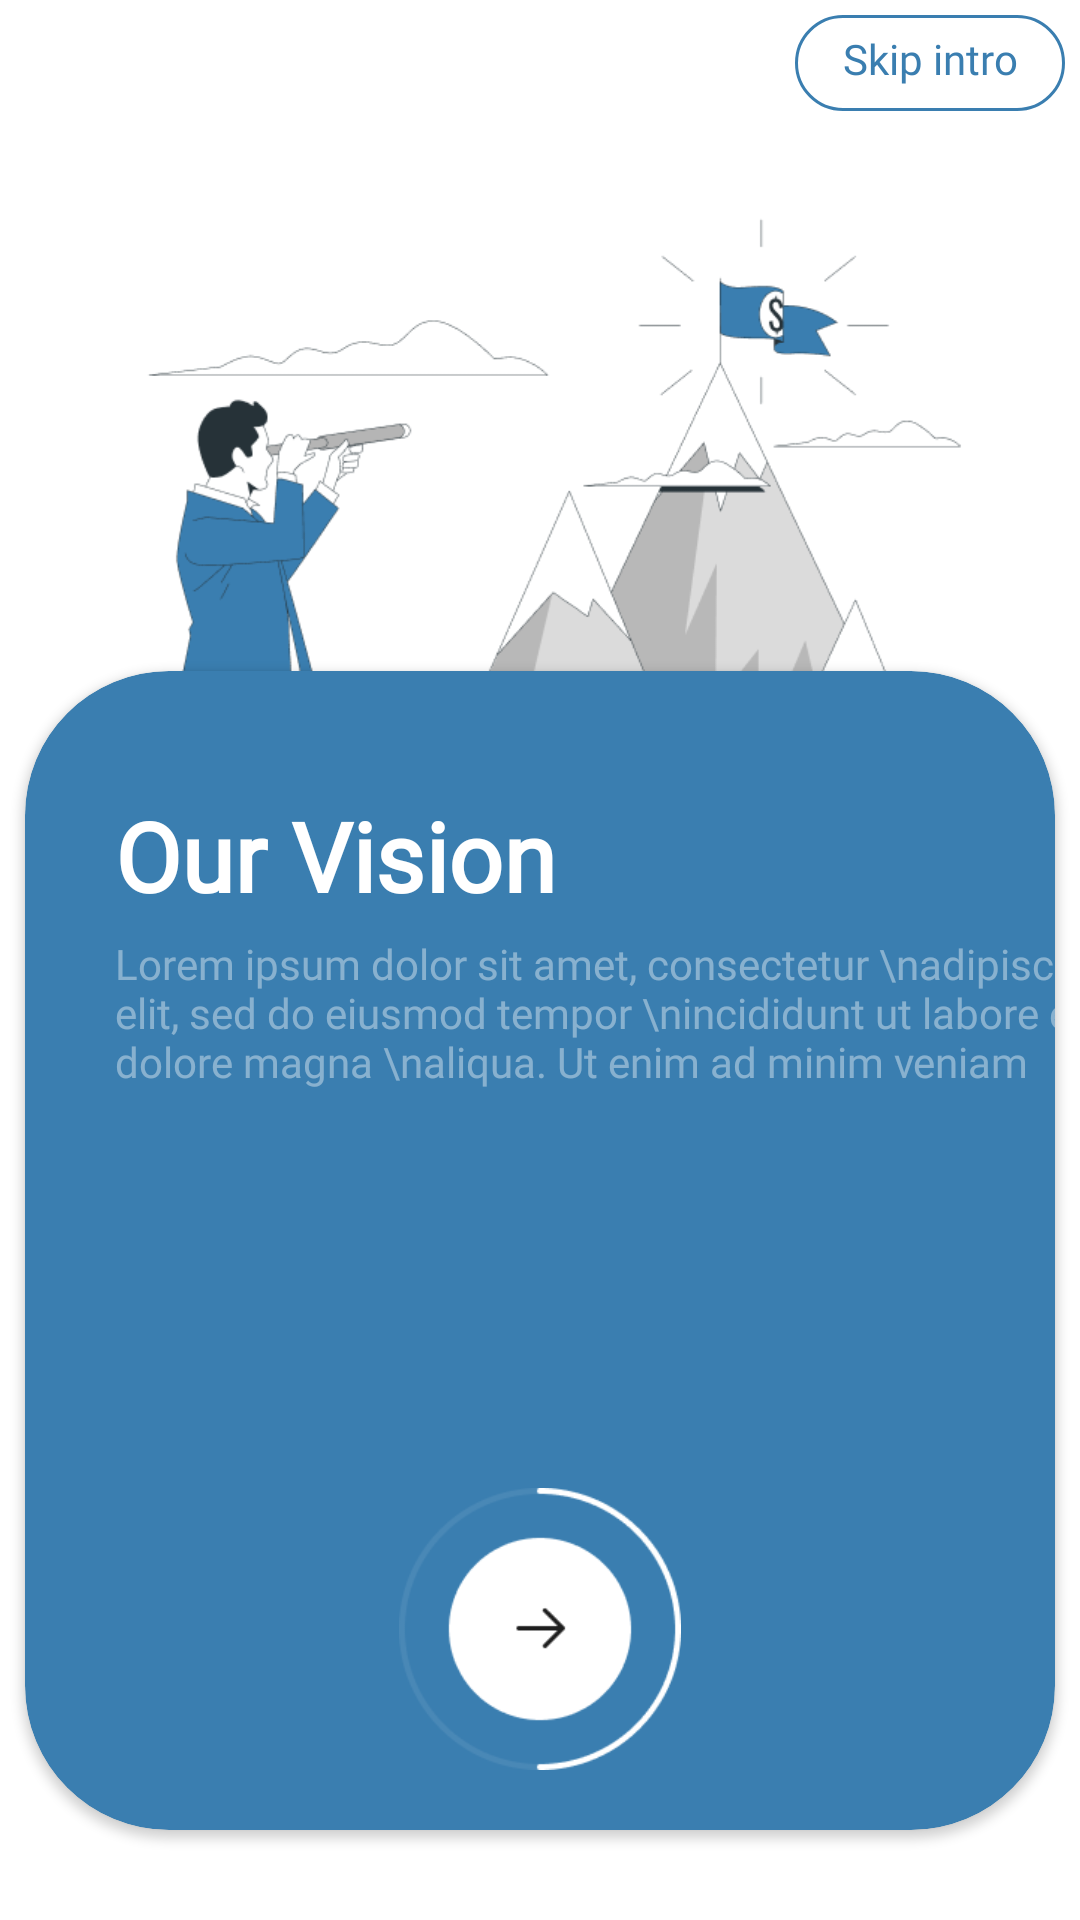

Point at icon controls on the screen. Image size 1080 × 1920, points as point (x, y).
prog: point (564, 1629)
